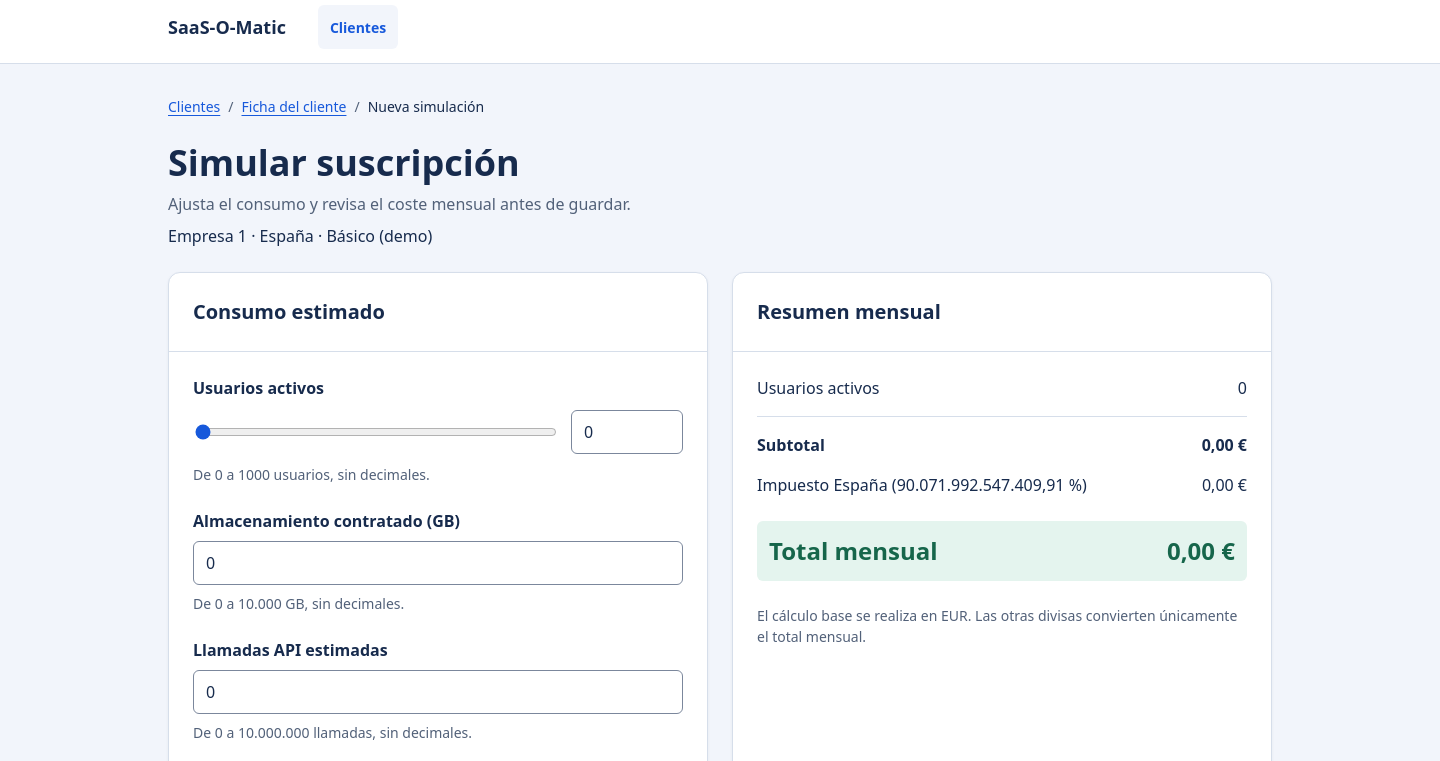
Test: blocks an overflowing quote without presenting a stale or approximate total
Step 1. Replace the text in the field labelled "Usuarios activos" with "15" → [627, 432], box [571,410,683,454]
(page scrolled)
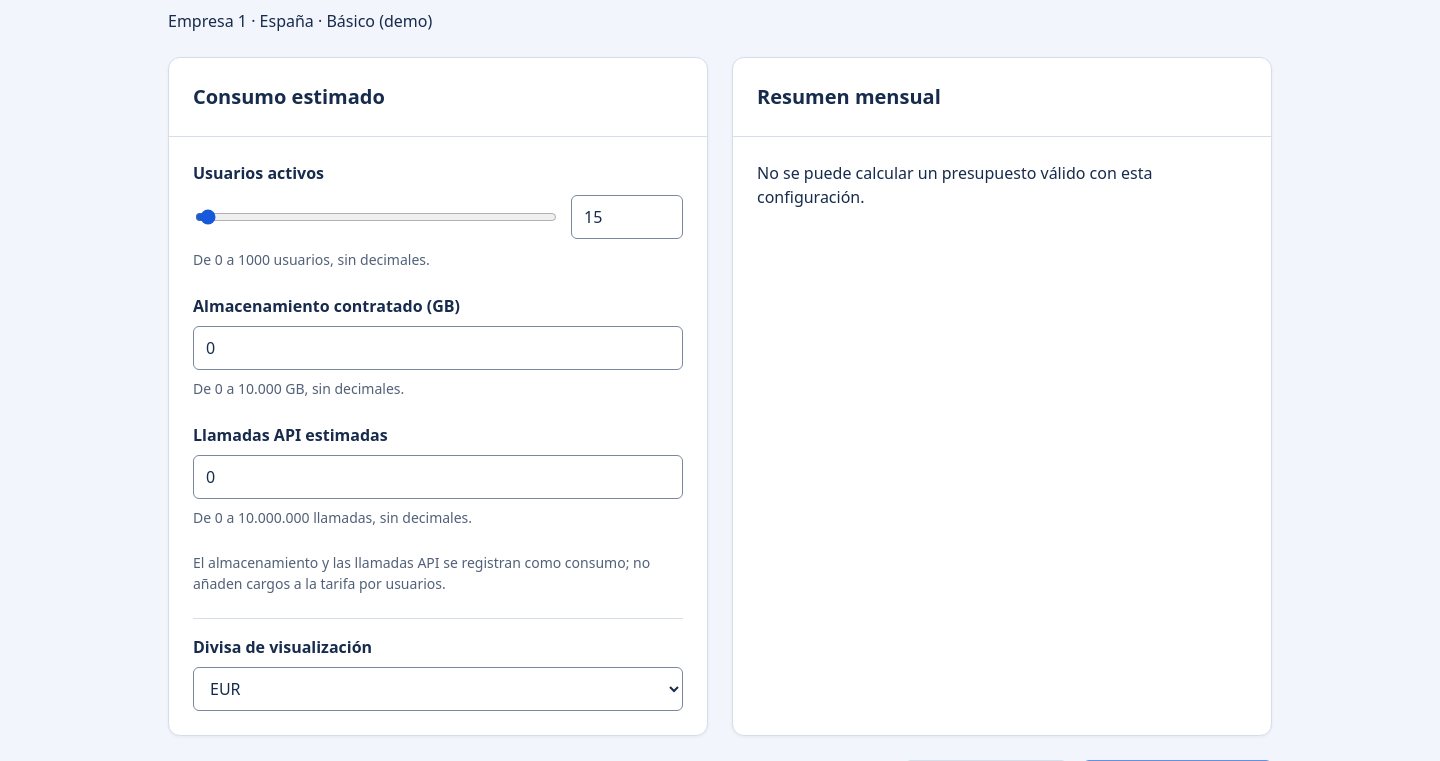
expect the text labelled "Total mensual" is gone: met
expect the element "Resumen mensual" shows "No se puede calcular": met, box [757,162,1152,208]
